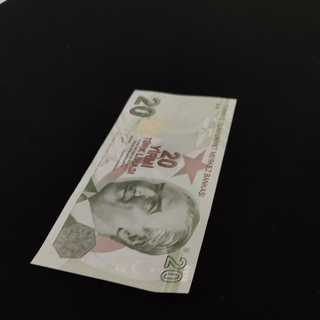20TLFront: (30, 88, 239, 293)
